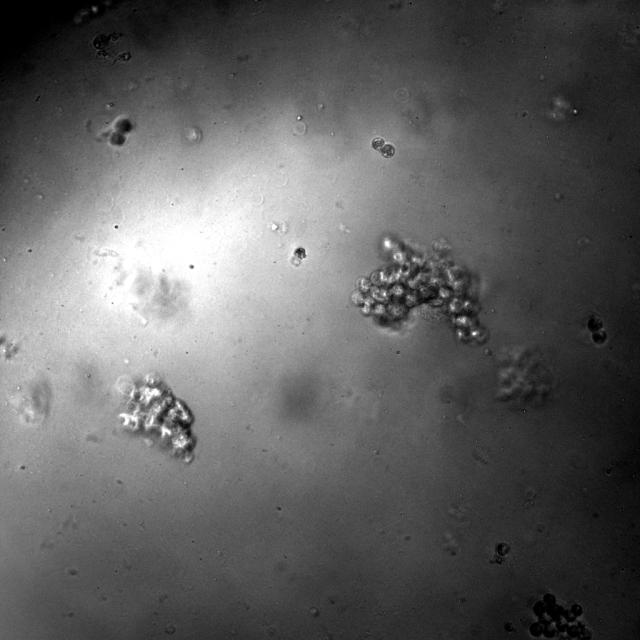organoid: (351, 236, 488, 344), (115, 373, 196, 462), (496, 348, 552, 405), (529, 593, 591, 639), (91, 30, 132, 68), (586, 314, 607, 344), (110, 118, 132, 145), (372, 137, 394, 158), (492, 542, 511, 565), (291, 247, 306, 266)
